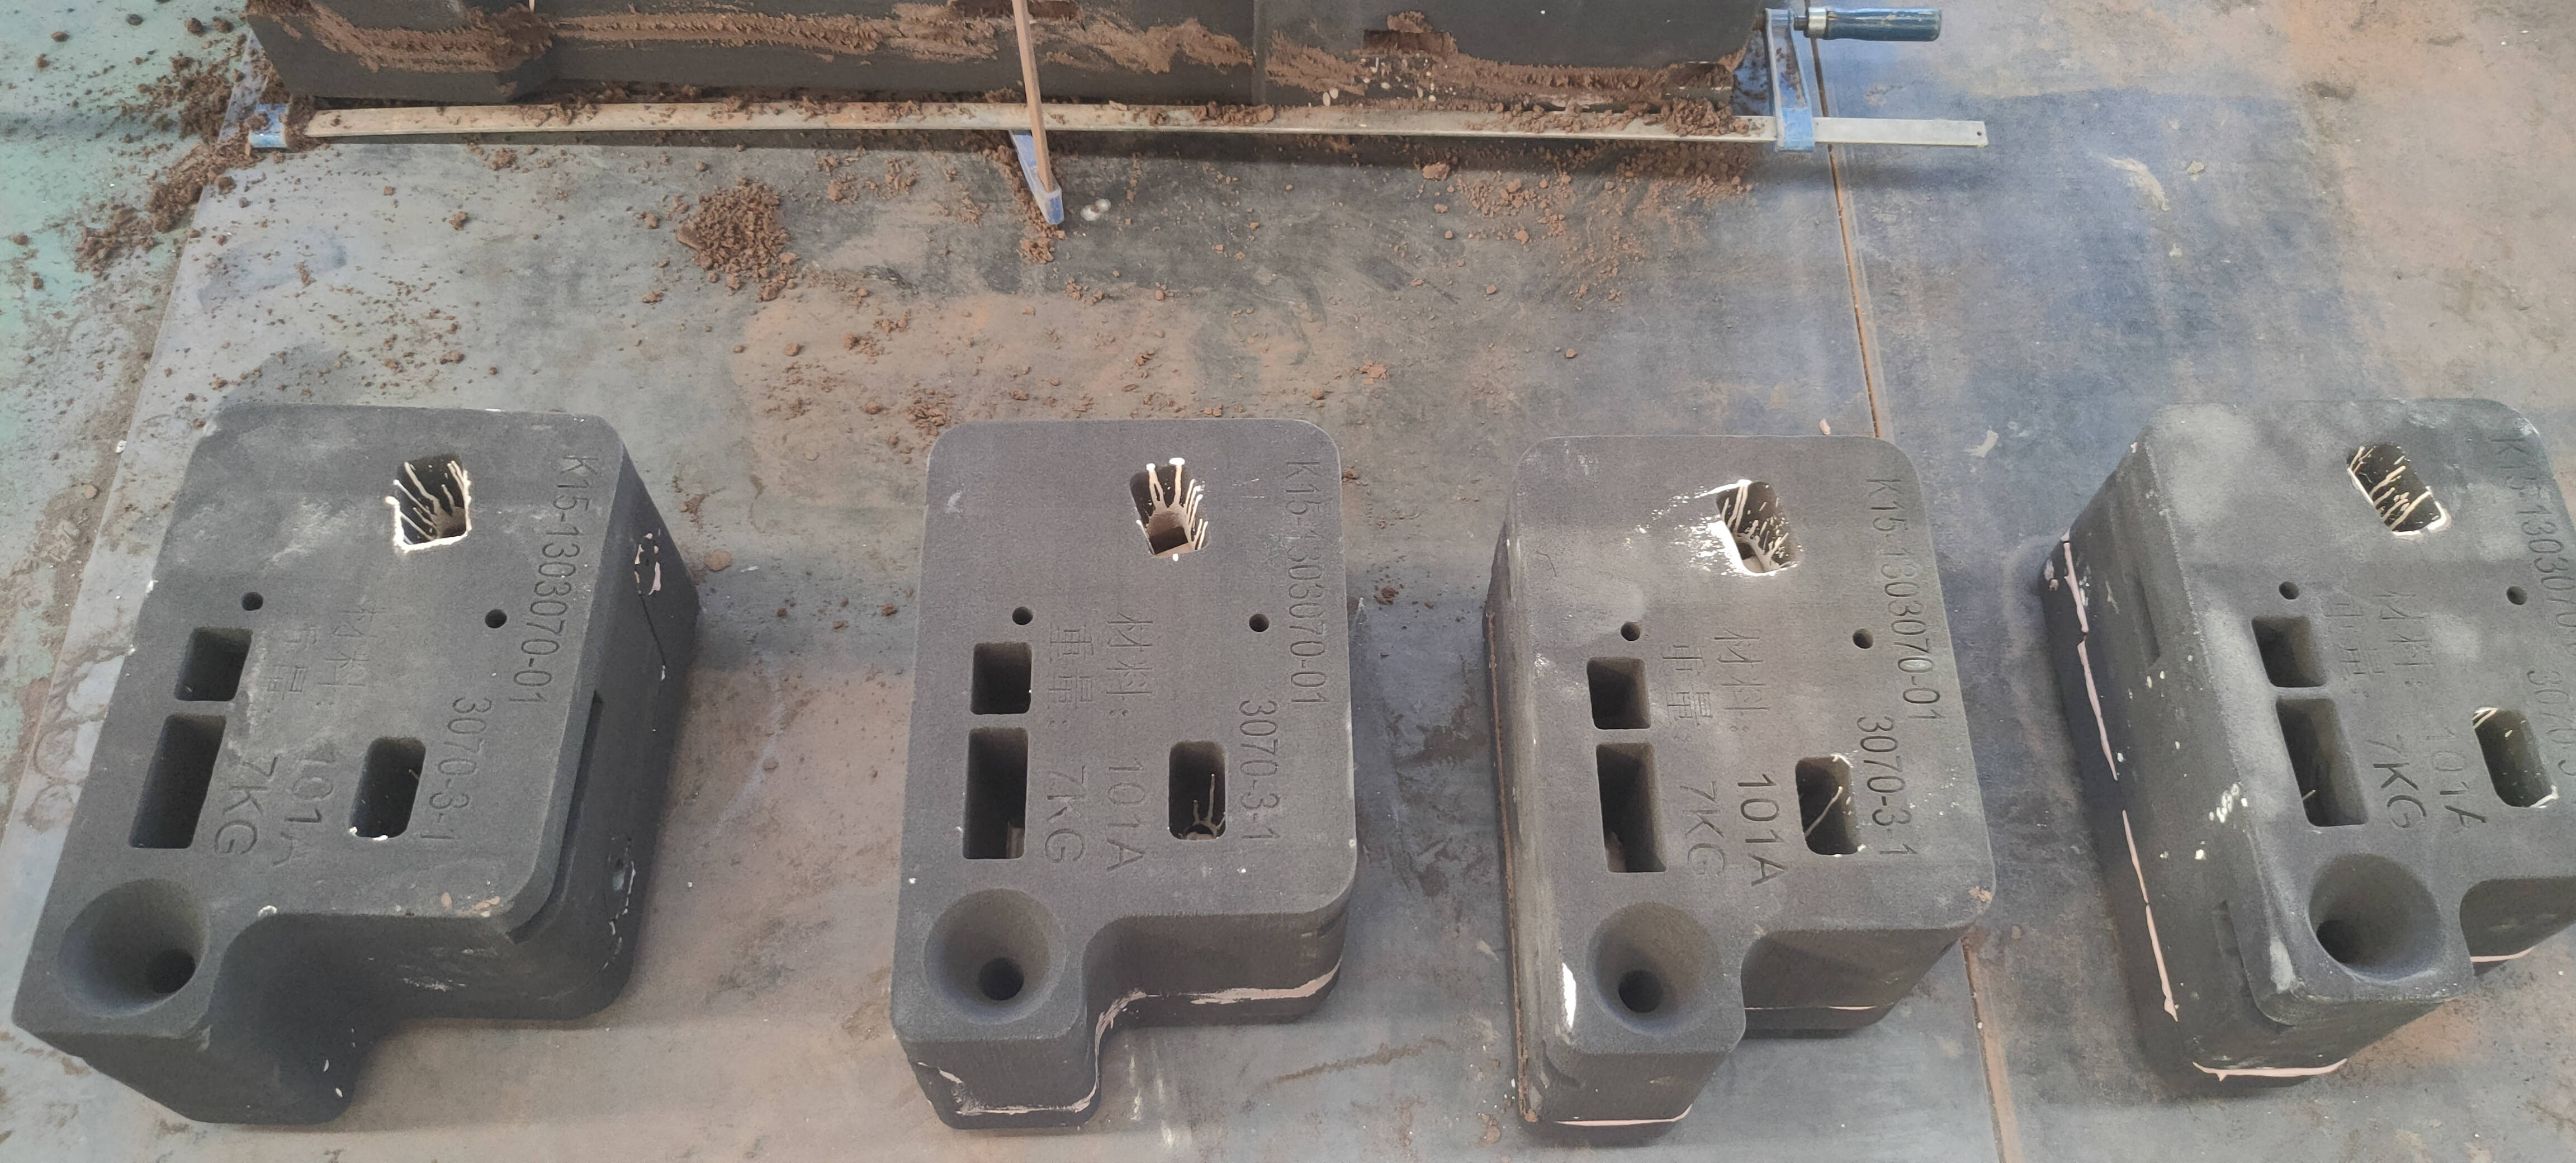pouring hole: (54, 877, 210, 1018), (920, 889, 1066, 1025), (1582, 902, 1723, 1035), (2308, 853, 2445, 982)
